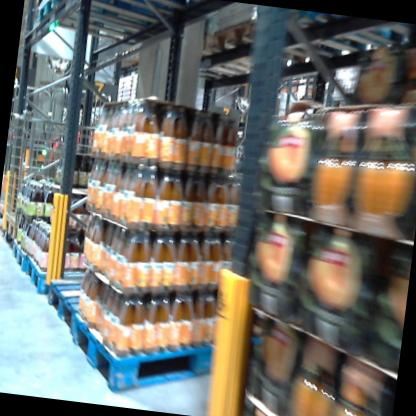pallet: (64, 280, 298, 416), (205, 11, 341, 92), (254, 5, 394, 80), (38, 265, 127, 357), (33, 0, 184, 52), (173, 31, 284, 97), (46, 0, 190, 28), (23, 252, 95, 307), (5, 241, 30, 278), (2, 214, 28, 246)
pallet_truck: (0, 64, 73, 236)
